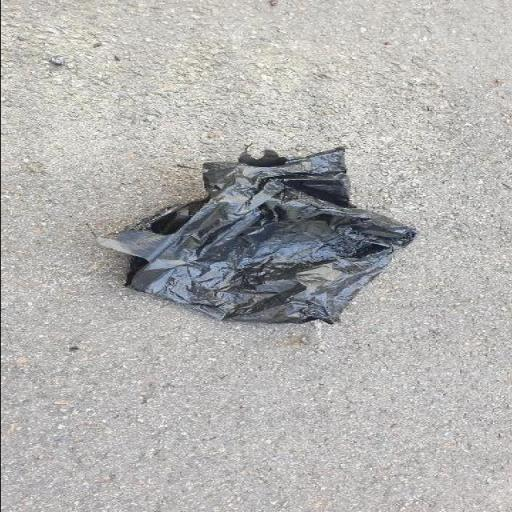plastic-bag: (94, 144, 424, 326)
